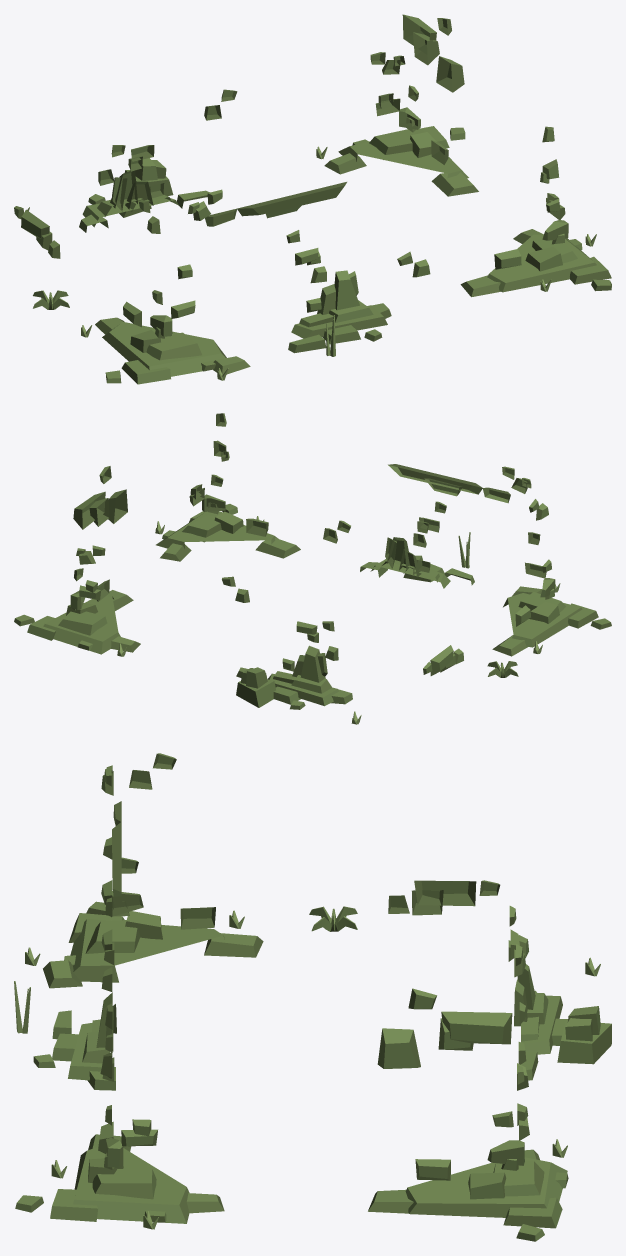
The model's file is SA_Bld_HospitalOffice_Growth_01.gltf.
The picture shows the model from 3 angles, top to bottom: view 1: azimuth 30°, elevation 25°; view 2: azimuth 150°, elevation 25°; view 3: azimuth 270°, elevation 25°; orthographic projection. The views are drawn at different scales.
Visible parts, largest first — view 1: SA_Bld_HospitalOffice_Growth_01; view 2: SA_Bld_HospitalOffice_Growth_01; view 3: SA_Bld_HospitalOffice_Growth_01.
Boxes of the visible parts, <box> form: SA_Bld_HospitalOffice_Growth_01: <box>14,14,611,384</box>; SA_Bld_HospitalOffice_Growth_01: <box>14,413,611,724</box>; SA_Bld_HospitalOffice_Growth_01: <box>14,753,611,1241</box>.
Bounding box in the file's own units: 34.79 × 10.43 × 26.25.
Materials: 1 (1 with a texture image).
